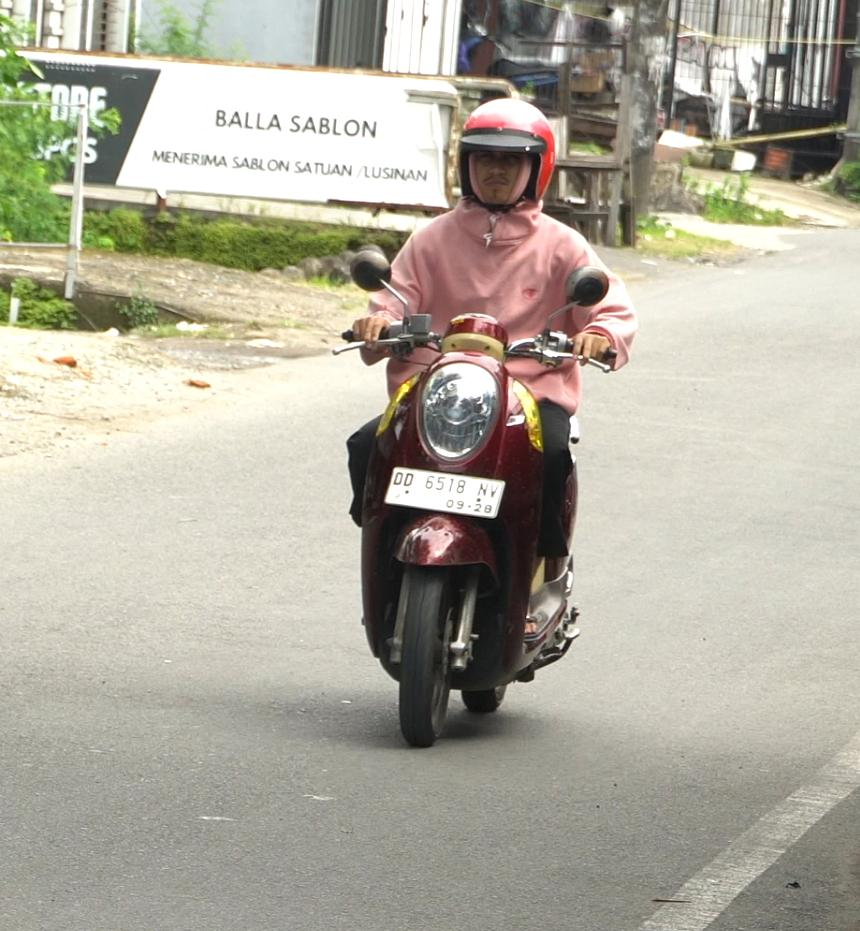number-plate: (381, 465, 513, 525)
